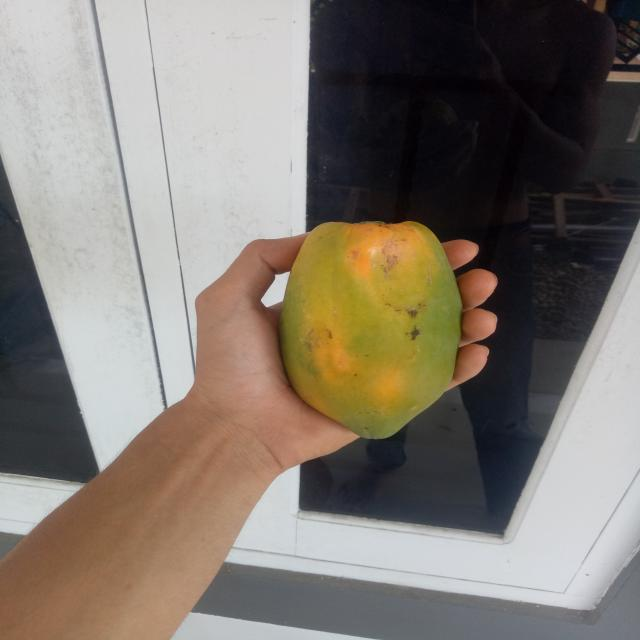Pepaya rippen: (281, 214, 464, 443)
